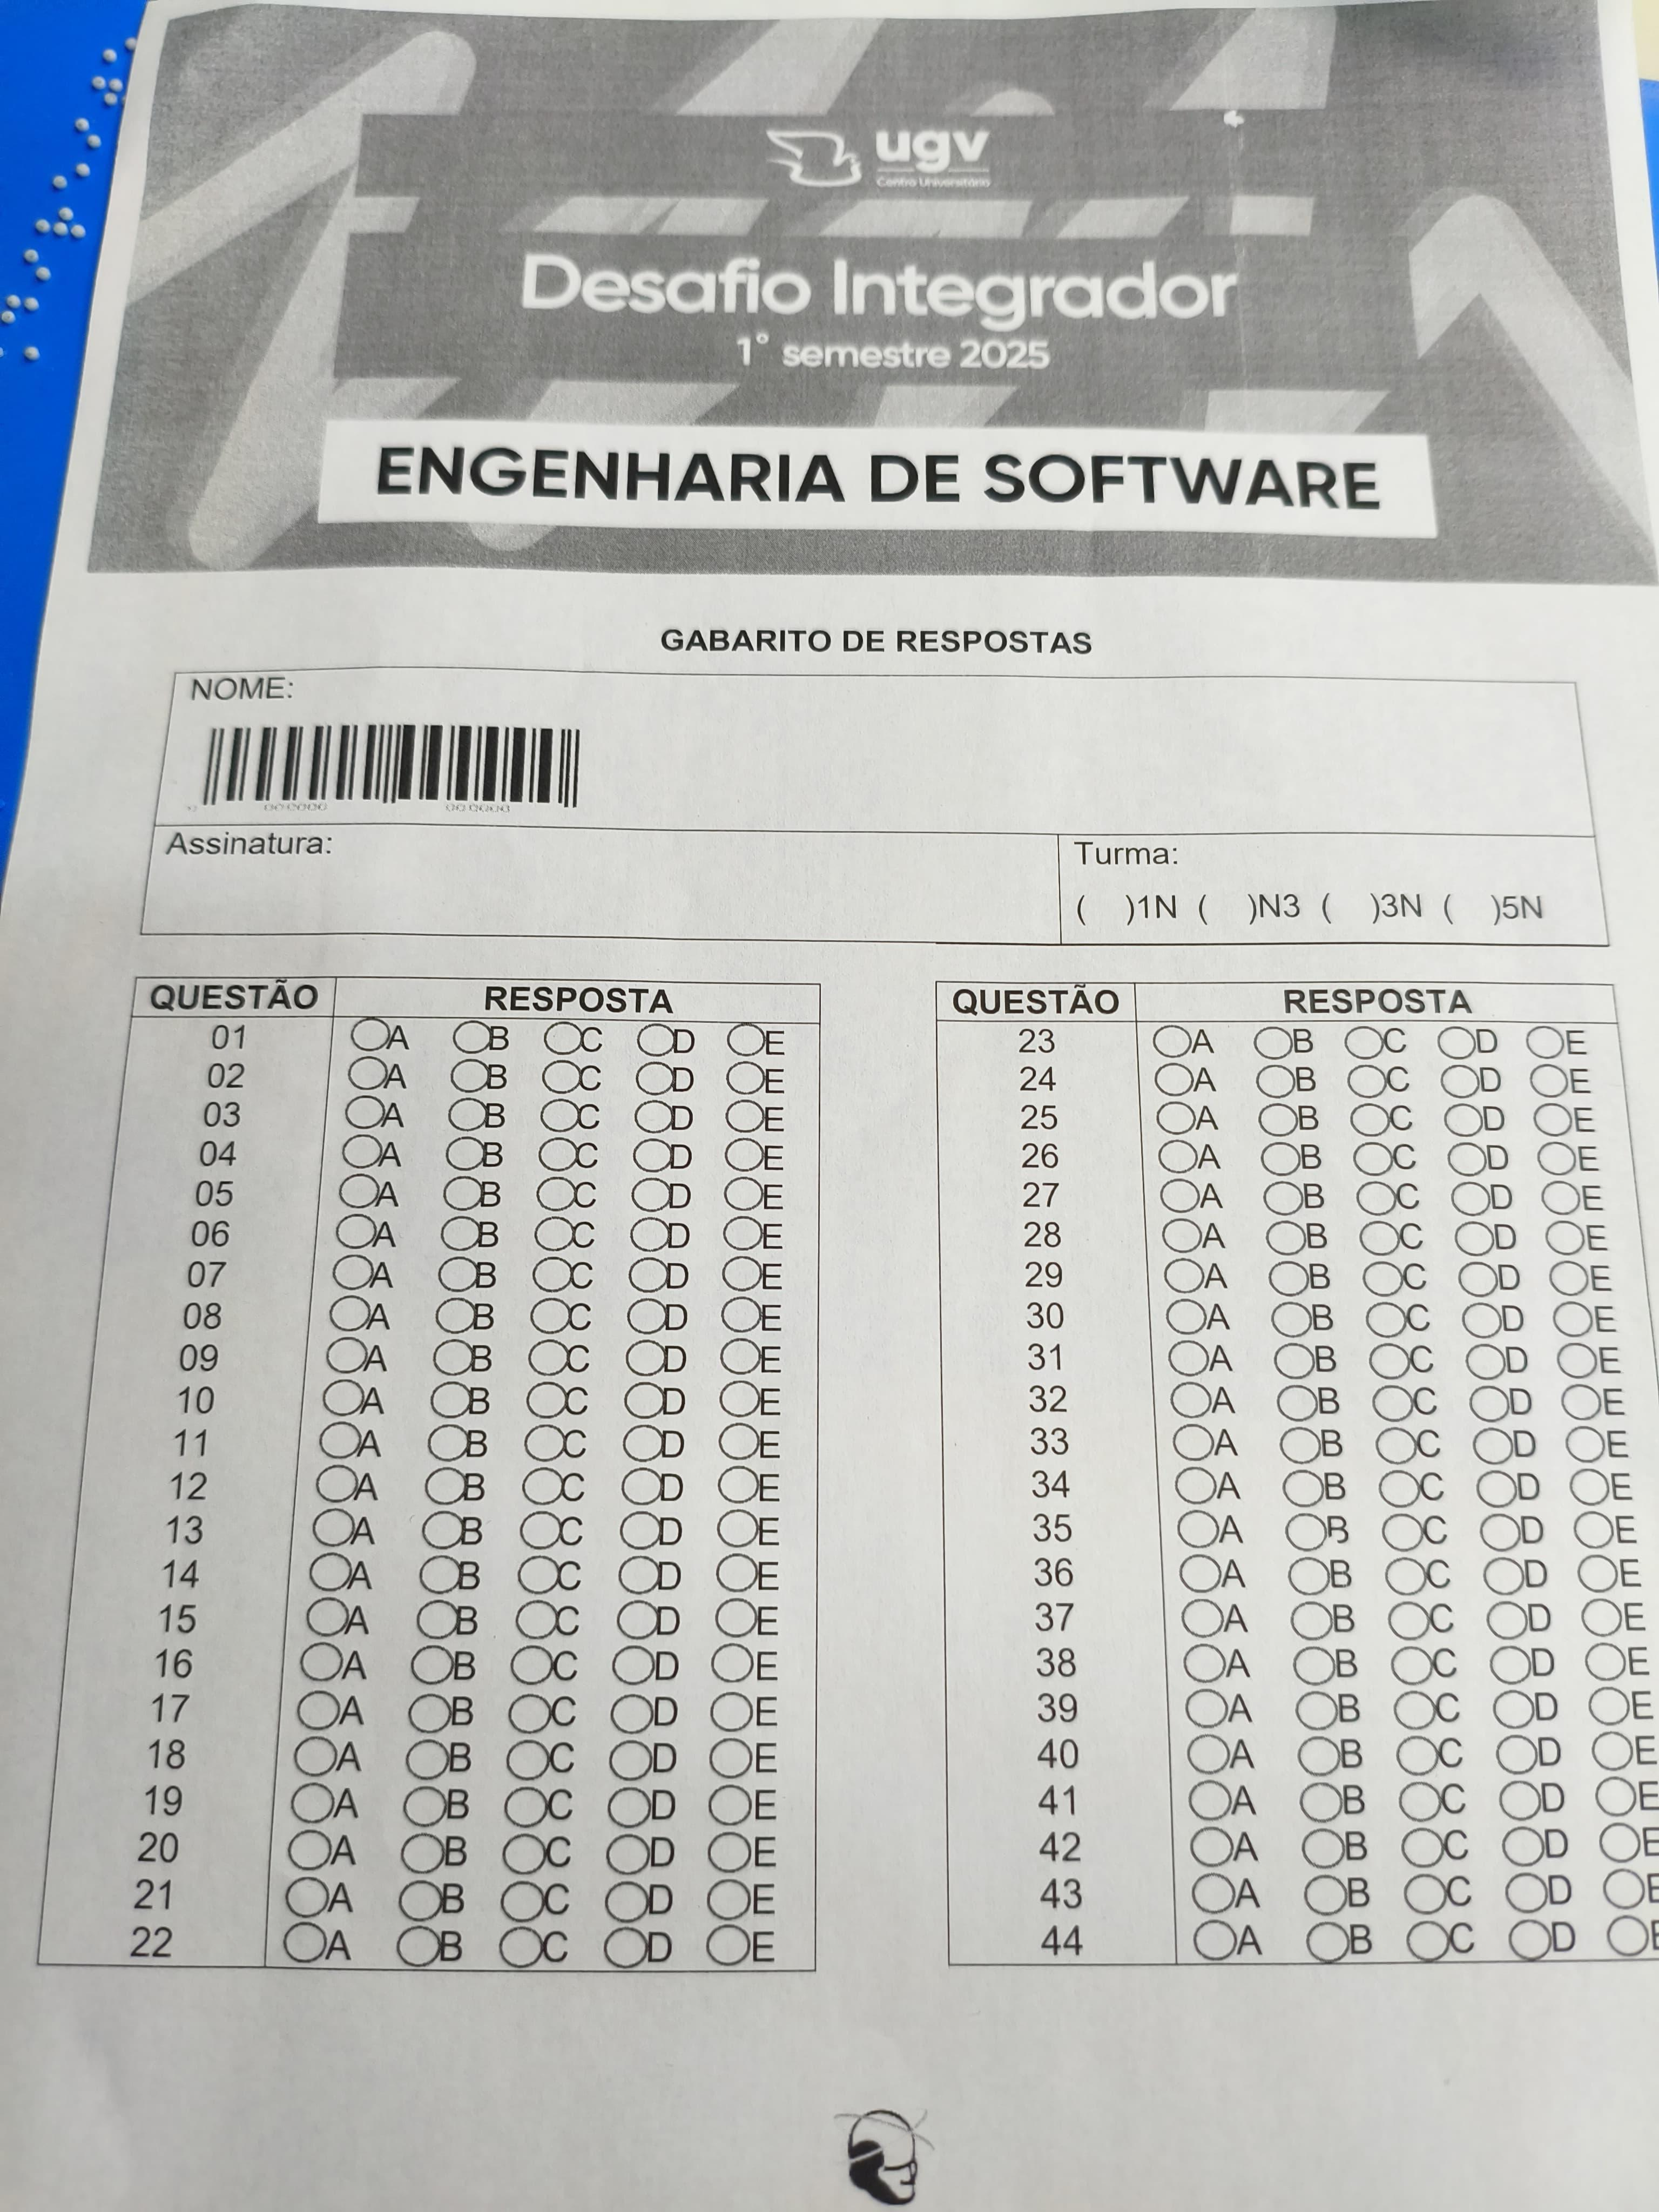bolinha: (350, 1017, 390, 1050)
